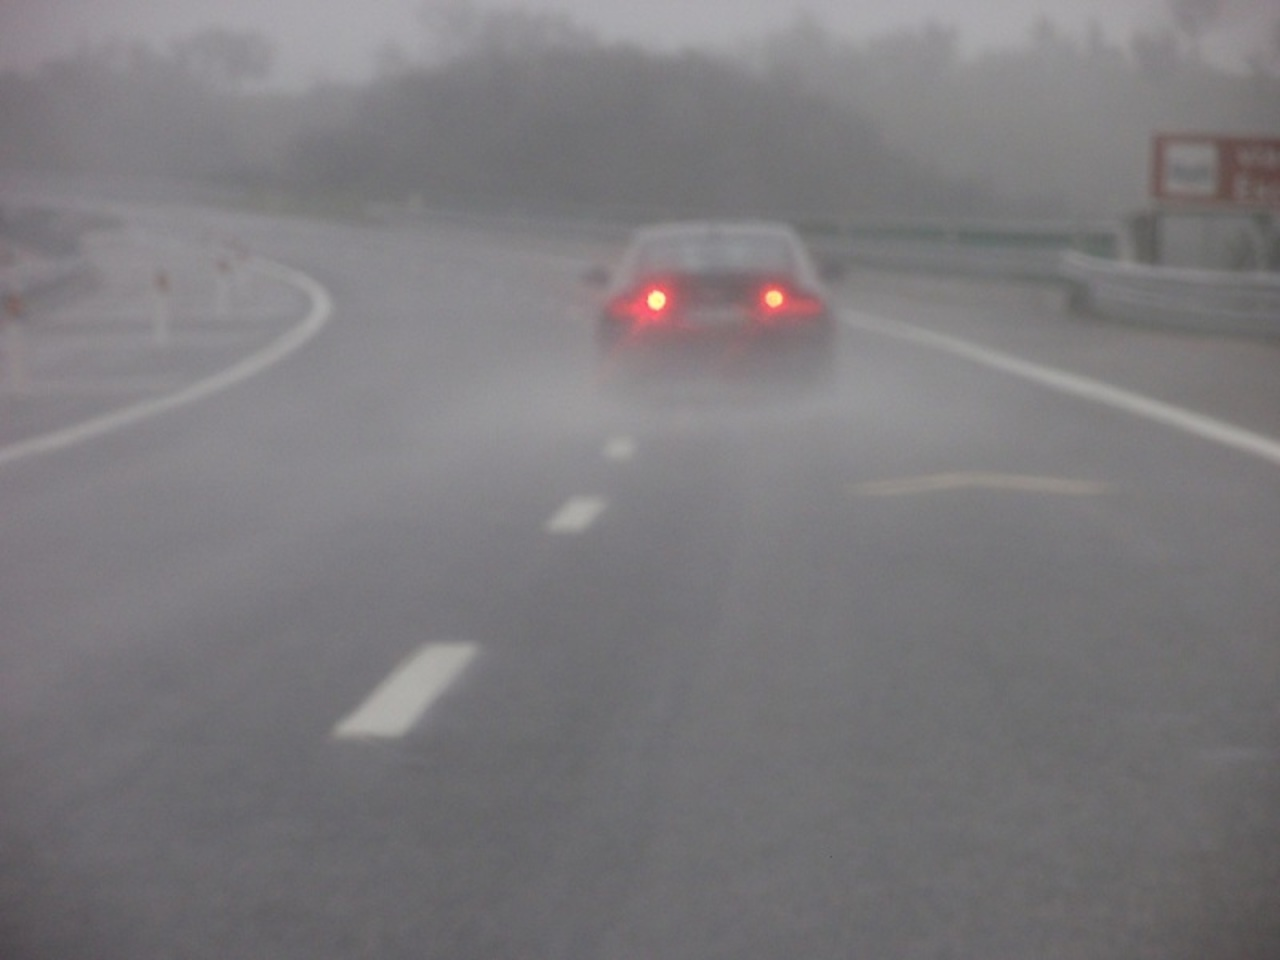car: (598, 224, 838, 371)
